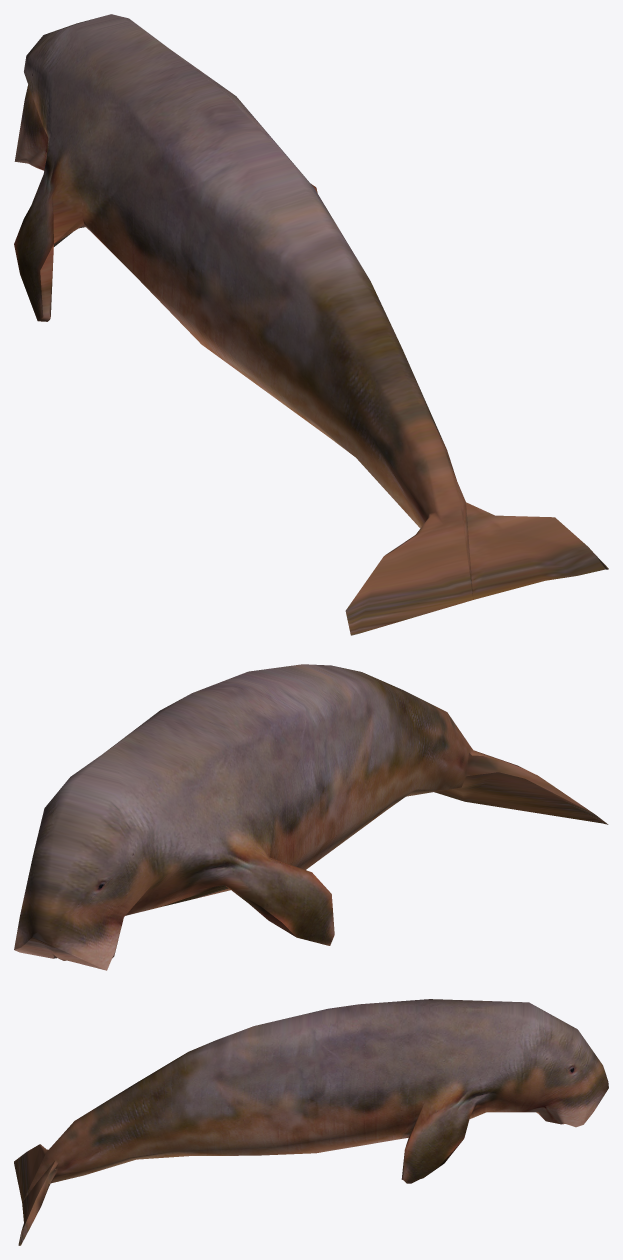
The model's file is dugong.glb.
3 views of the same model, one above another, from view 1: azimuth 30°, elevation 25°; view 2: azimuth 150°, elevation 25°; view 3: azimuth 270°, elevation 25° (orthographic). The views are drawn at different scales.
Parts seen in each view (by area): view 1: Object_2; view 2: Object_2; view 3: Object_2.
Part boxes in pixels (x1,y1,x2,y2): Object_2: [14, 14, 608, 635]; Object_2: [14, 664, 608, 970]; Object_2: [14, 999, 608, 1245].
Size of the model in its own units: 0.9207 by 0.9323 by 2.5.
1 material, 1 textured.
